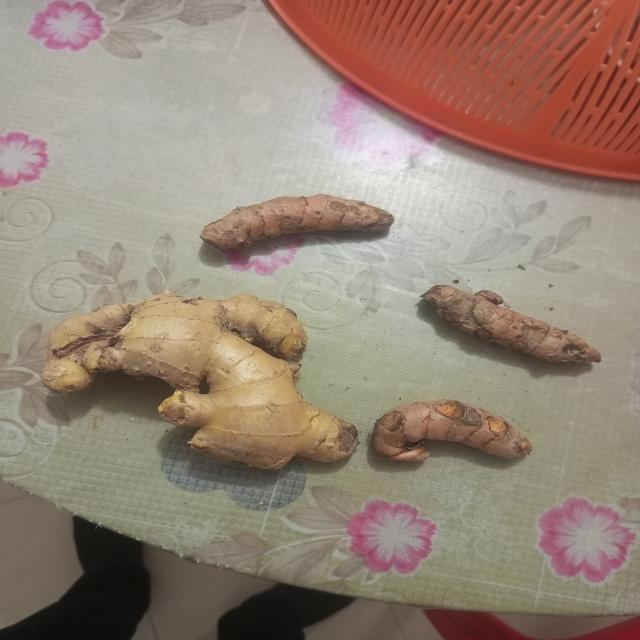ginger: (46, 296, 350, 459), (426, 286, 599, 366), (201, 192, 396, 251), (374, 400, 532, 463)
